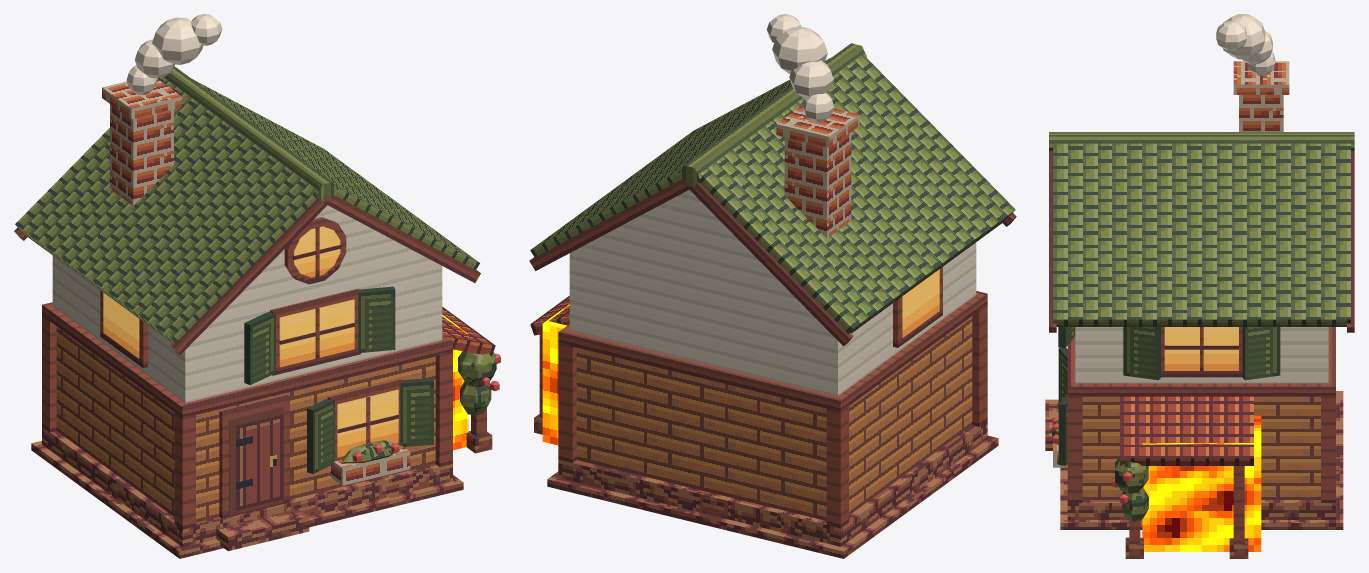
File: house1.glb
3 views of the same model, side by side, from view 1: azimuth 30°, elevation 25°; view 2: azimuth 150°, elevation 25°; view 3: azimuth 270°, elevation 25° (orthographic). The views are drawn at different scales.
Visible parts, largest first — view 1: roof_slope~x, ground_floor, upper_floor, base, mid_beam, roof_slope, gable, door_panel, chimney, base_rim, win_f2_glass, roof_ridge (+28 smaller); view 2: ground_floor, roof_slope~x, upper_floor, base, gable, mid_beam, roof_slope, base_rim, chimney, roof_ridge, fascia~xz, corner_post~xz (+11 smaller); view 3: roof_slope, ground_floor, Lava_Flow_01_Frame_00, porch_roof, upper_floor, mid_beam, roof_ridge, base_rim, win_r2_glass, base, win_r2_shut~z, win_r2_shut (+16 smaller).
Part boxes in pixels (<box>): roof_slope~x: <box>15,77,317,343</box>; ground_floor: <box>56,326,435,522</box>; upper_floor: <box>52,255,442,402</box>; base: <box>42,427,452,547</box>; mid_beam: <box>42,302,452,417</box>; roof_slope: <box>192,79,479,269</box>; gable: <box>225,205,430,310</box>; door_panel: <box>229,407,283,515</box>; chimney: <box>110,104,173,205</box>; base_rim: <box>31,441,463,558</box>; win_f2_glass: <box>279,299,354,367</box>; roof_ridge: <box>164,66,337,202</box>; ground_floor: <box>576,316,972,520</box>; roof_slope~x: <box>699,54,1015,333</box>; upper_floor: <box>569,242,976,396</box>; base: <box>558,421,987,546</box>; gable: <box>582,189,796,299</box>; mid_beam: <box>558,291,987,411</box>; roof_slope: <box>530,58,830,257</box>; base_rim: <box>547,435,998,558</box>; chimney: <box>784,132,851,237</box>; roof_ridge: <box>679,43,866,186</box>; fascia~xz: <box>684,178,853,346</box>; corner_post~xz: <box>826,404,848,528</box>; roof_slope: <box>1053,143,1350,326</box>; ground_floor: <box>1082,396,1320,499</box>; Lava_Flow_01_Frame_00: <box>1142,415,1261,551</box>; porch_roof: <box>1120,396,1253,465</box>; upper_floor: <box>1075,327,1328,383</box>; mid_beam: <box>1067,327,1335,396</box>; roof_ridge: <box>1049,132,1354,151</box>; base_rim: <box>1060,391,1343,529</box>; win_r2_glass: <box>1164,327,1238,370</box>; base: <box>1067,500,1335,519</box>; win_r2_shut~z: <box>1242,327,1280,380</box>; win_r2_shut: <box>1123,327,1160,380</box>.
Size of what is drawn, in the model's own units: 3.4 by 3.97 by 2.59.
Materials: 16 (16 with a texture image).
